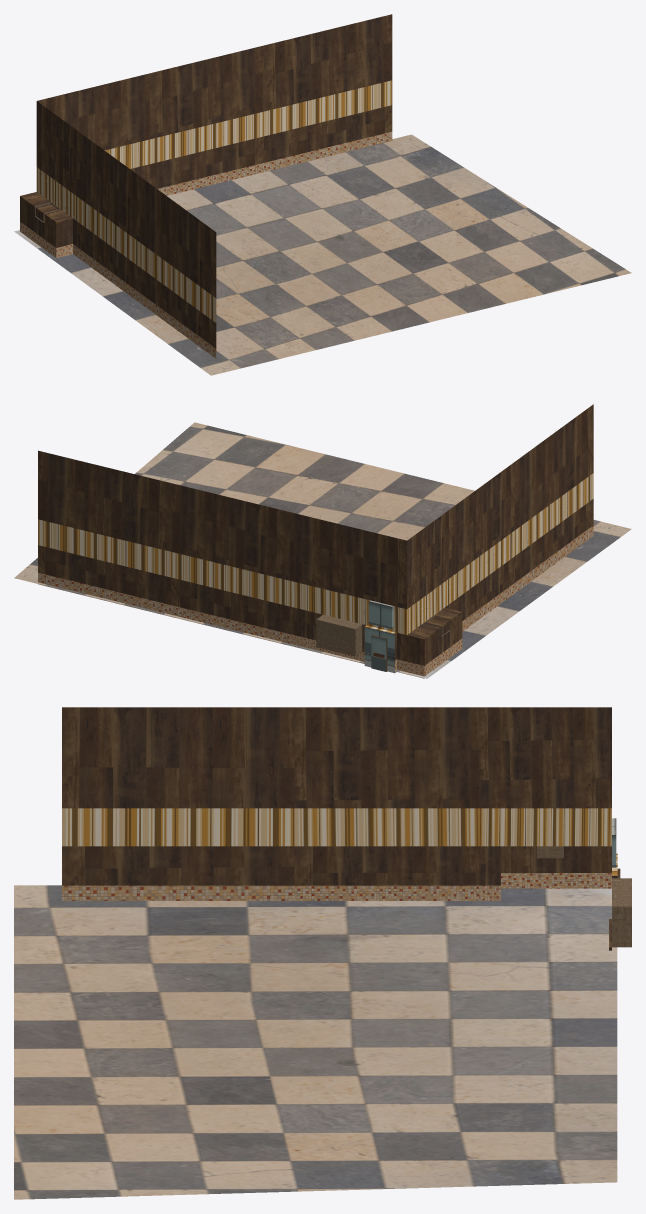
Rendered from factory4_2.fbx.
3 views of the same model, one above another, from view 1: azimuth 30°, elevation 25°; view 2: azimuth 150°, elevation 25°; view 3: azimuth 270°, elevation 25° (orthographic). The views are drawn at different scales.
Parts seen in each view (by area): view 1: factory4; view 2: factory4; view 3: factory4.
Part boxes in pixels (x1,y1,x2,y2): factory4: (14, 14, 631, 375); factory4: (14, 404, 631, 678); factory4: (14, 707, 631, 1199).
Size of the model in its own units: 207 by 60.39 by 172.
Materials: 1 (1 with a texture image).
